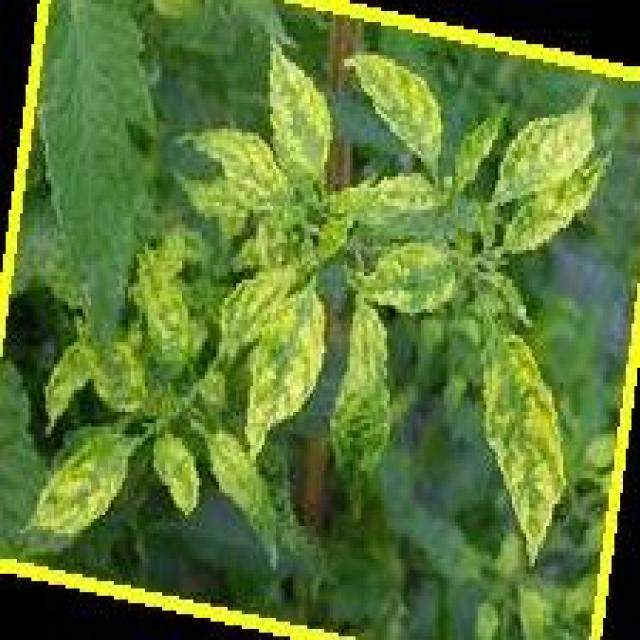Rust: (473, 328, 579, 562), (245, 284, 331, 450)
